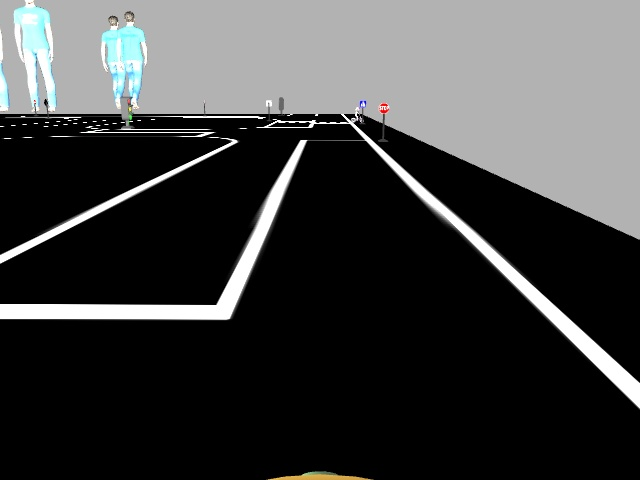Stop: (376, 102, 391, 114)
TrafficLight: (118, 96, 135, 122)
